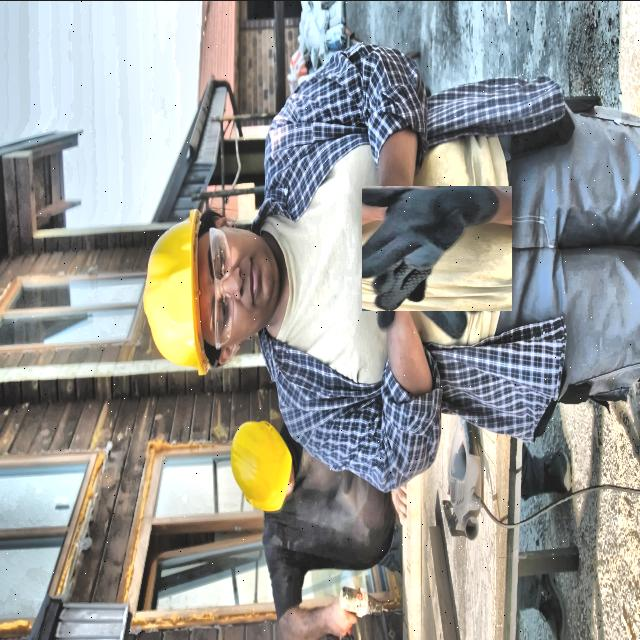gloved: (368, 179, 506, 317)
